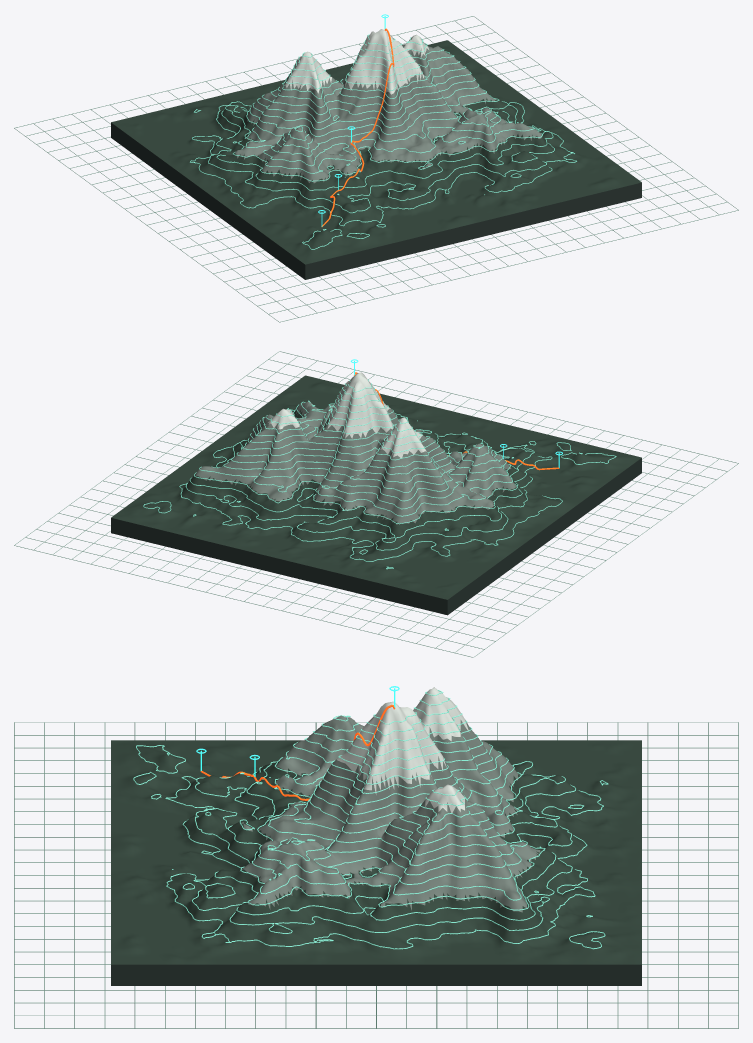
The model's file is field-atlas.glb.
3 renders of one model, top to bottom at view 1: azimuth 30°, elevation 25°; view 2: azimuth 150°, elevation 25°; view 3: azimuth 270°, elevation 25°, orthographic. The views are drawn at different scales.
Parts seen in each view (by area): view 1: Field Atlas terrain, Basalt section, Elevation contours, Survey datum; view 2: Field Atlas terrain, Basalt section, Survey datum, Elevation contours; view 3: Field Atlas terrain, Elevation contours, Survey datum, Basalt section.
Boxes of the visible parts, x1,y1,x2,y2 form: Field Atlas terrain: (111, 29, 641, 264); Basalt section: (111, 122, 641, 279); Elevation contours: (190, 34, 576, 249); Survey datum: (14, 16, 738, 322); Field Atlas terrain: (111, 372, 641, 599); Basalt section: (111, 458, 641, 615); Survey datum: (14, 351, 738, 657); Elevation contours: (143, 379, 616, 569); Field Atlas terrain: (111, 687, 641, 964); Elevation contours: (133, 690, 608, 949); Survey datum: (14, 722, 738, 1028); Basalt section: (111, 964, 641, 985).
Bounding box in the file's own units: 24.02 × 7.24 × 24.02.
